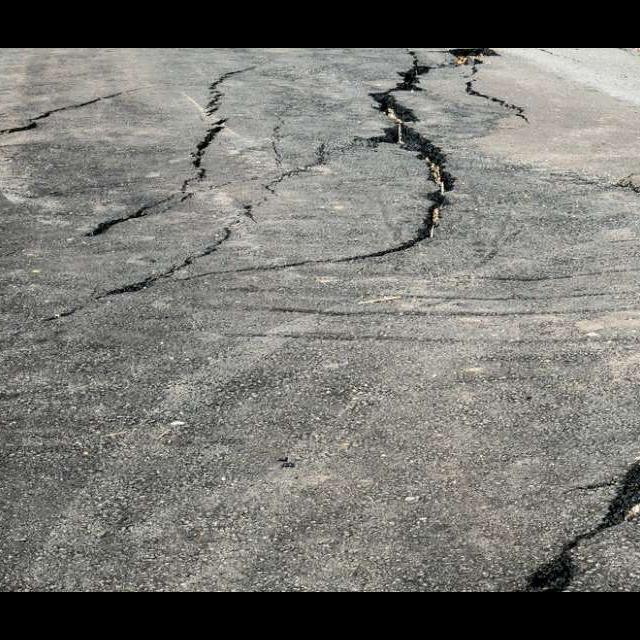retak_memanjang: (536, 63, 640, 592), (74, 148, 342, 308), (301, 48, 475, 285), (86, 49, 242, 237), (0, 93, 133, 165), (434, 48, 534, 128)
